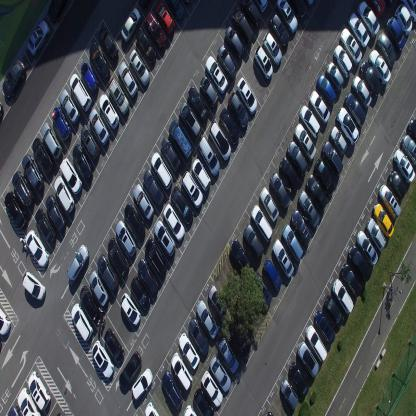car: (168, 120, 193, 164), (4, 190, 28, 231), (160, 369, 184, 410), (2, 58, 25, 100), (28, 370, 51, 412), (25, 228, 49, 268), (66, 243, 90, 283), (178, 101, 202, 141), (69, 72, 92, 113), (11, 170, 35, 209), (336, 106, 360, 145), (70, 302, 93, 342), (91, 340, 114, 380), (21, 152, 44, 192), (150, 151, 173, 191), (197, 136, 220, 176), (170, 184, 193, 224), (144, 236, 167, 276), (209, 353, 232, 393), (118, 352, 142, 390), (347, 244, 371, 282), (229, 238, 253, 276), (88, 41, 110, 82), (272, 237, 294, 278), (144, 10, 167, 49), (205, 55, 228, 94), (208, 121, 231, 160), (196, 300, 219, 339), (26, 19, 50, 56), (31, 136, 53, 176), (107, 236, 129, 276), (181, 169, 203, 209), (163, 202, 185, 242), (170, 352, 192, 392), (281, 222, 303, 262), (313, 157, 335, 197), (107, 77, 130, 115), (59, 156, 82, 194), (142, 170, 165, 208), (200, 370, 223, 408), (297, 340, 320, 378), (357, 0, 380, 38), (45, 192, 66, 233), (54, 175, 76, 214), (34, 206, 56, 245), (124, 201, 146, 240), (232, 7, 254, 46), (178, 332, 200, 371), (378, 183, 401, 220), (305, 174, 328, 211), (368, 48, 391, 85), (340, 27, 363, 64), (40, 122, 62, 160), (97, 253, 119, 291), (115, 219, 137, 257), (132, 183, 154, 221), (227, 91, 249, 129), (137, 258, 159, 296), (306, 324, 328, 362), (290, 208, 312, 246), (298, 190, 320, 228), (360, 60, 382, 98), (331, 278, 354, 314), (339, 262, 362, 298), (188, 317, 209, 356), (154, 219, 176, 256), (217, 337, 239, 374), (372, 201, 394, 238), (321, 140, 343, 177), (348, 11, 370, 48), (294, 122, 316, 159), (269, 171, 291, 208), (250, 204, 272, 241), (72, 142, 92, 182), (98, 24, 119, 62), (129, 48, 150, 86), (88, 107, 109, 145), (236, 76, 257, 114), (187, 86, 209, 122), (356, 230, 378, 266), (393, 147, 415, 183), (344, 92, 366, 128), (99, 93, 120, 130), (219, 107, 240, 144), (287, 140, 308, 177), (276, 0, 298, 35), (118, 60, 138, 98), (160, 136, 180, 174), (51, 106, 72, 142), (120, 6, 141, 42), (80, 286, 101, 322), (104, 327, 125, 363), (207, 283, 228, 319), (229, 323, 250, 359), (309, 88, 330, 124), (243, 223, 264, 259), (21, 272, 46, 302), (132, 366, 154, 400), (59, 88, 79, 125), (136, 27, 156, 64), (88, 270, 108, 307), (288, 360, 308, 397), (252, 271, 272, 308), (120, 291, 141, 326), (279, 156, 300, 191), (80, 124, 100, 160), (216, 44, 236, 80), (366, 217, 386, 253), (386, 16, 406, 52), (130, 276, 151, 310), (314, 310, 335, 344), (351, 75, 372, 109), (260, 186, 279, 223), (254, 44, 273, 80), (377, 31, 396, 67), (155, 1, 175, 35), (224, 25, 244, 59), (269, 12, 289, 46), (262, 31, 282, 65), (191, 157, 211, 191), (324, 294, 344, 328), (199, 75, 218, 110), (262, 257, 282, 290), (333, 44, 353, 77), (317, 73, 337, 106), (300, 105, 320, 138), (17, 388, 41, 415), (80, 61, 99, 94), (240, 0, 262, 28), (388, 168, 406, 202), (395, 2, 412, 36), (280, 378, 298, 410), (330, 125, 348, 157), (193, 388, 214, 415), (326, 60, 344, 90), (402, 133, 416, 169), (366, 0, 386, 20), (48, 0, 66, 22), (167, 0, 185, 22), (288, 0, 307, 19), (0, 306, 11, 336), (402, 0, 416, 23), (144, 400, 162, 415), (406, 116, 416, 143), (184, 403, 198, 415), (255, 0, 268, 12), (8, 404, 22, 415), (139, 0, 152, 8), (0, 100, 4, 121), (182, 0, 192, 8), (264, 410, 277, 416), (308, 0, 316, 6)
